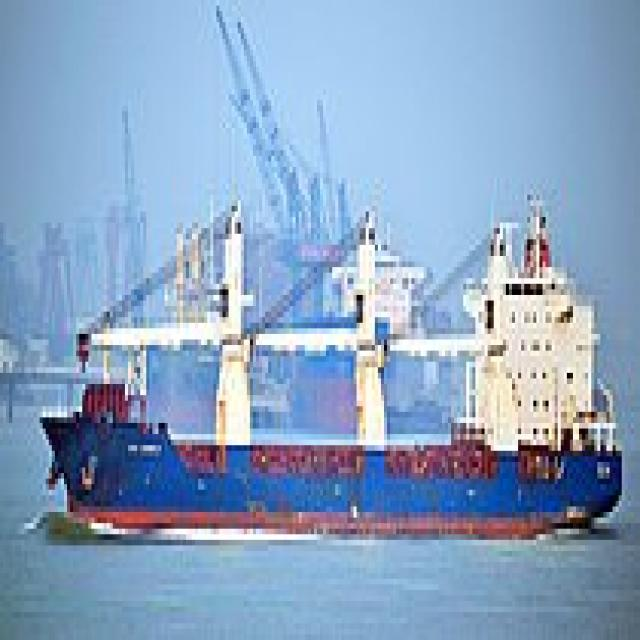Cargo: (36, 184, 624, 534)
